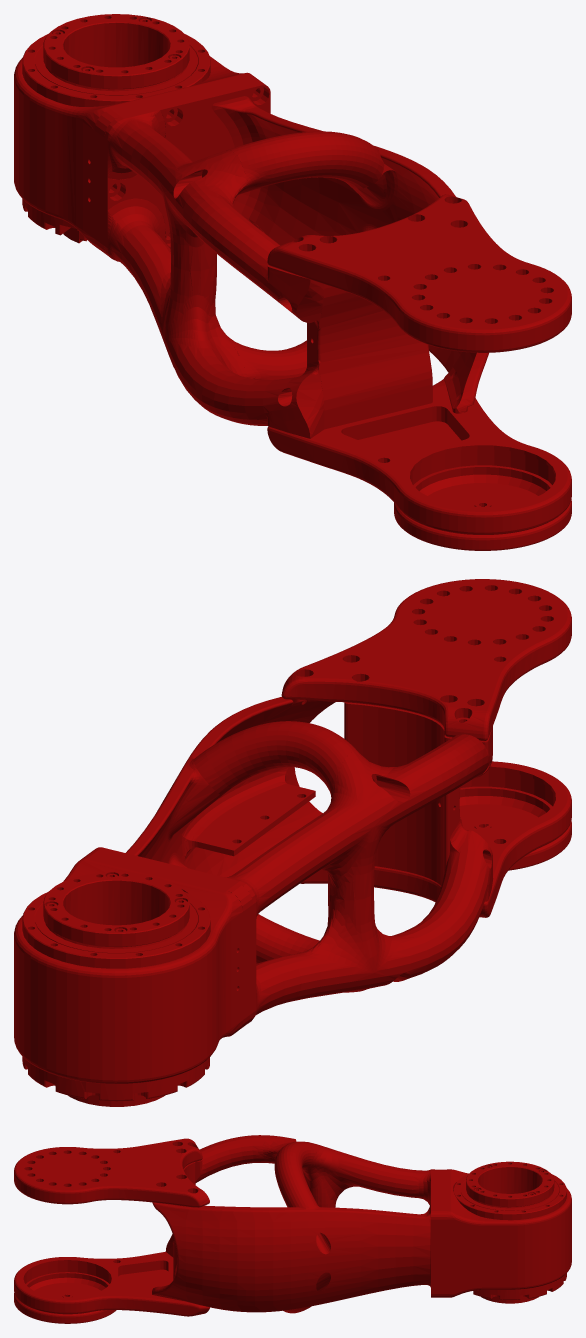
Rendered from Thigh_R_Link.obj.
The picture shows the model from 3 angles, top to bottom: view 1: azimuth 30°, elevation 25°; view 2: azimuth 150°, elevation 25°; view 3: azimuth 270°, elevation 25°; orthographic projection. The views are drawn at different scales.
Visible parts, largest first — view 1: Thigh_R_Link; view 2: Thigh_R_Link; view 3: Thigh_R_Link.
Boxes of the visible parts, <box> form: Thigh_R_Link: <box>14,14,571,550</box>; Thigh_R_Link: <box>14,579,571,1106</box>; Thigh_R_Link: <box>14,1135,571,1323</box>.
Bounding box in the file's own units: 0.1423 × 0.135 × 0.4415.
